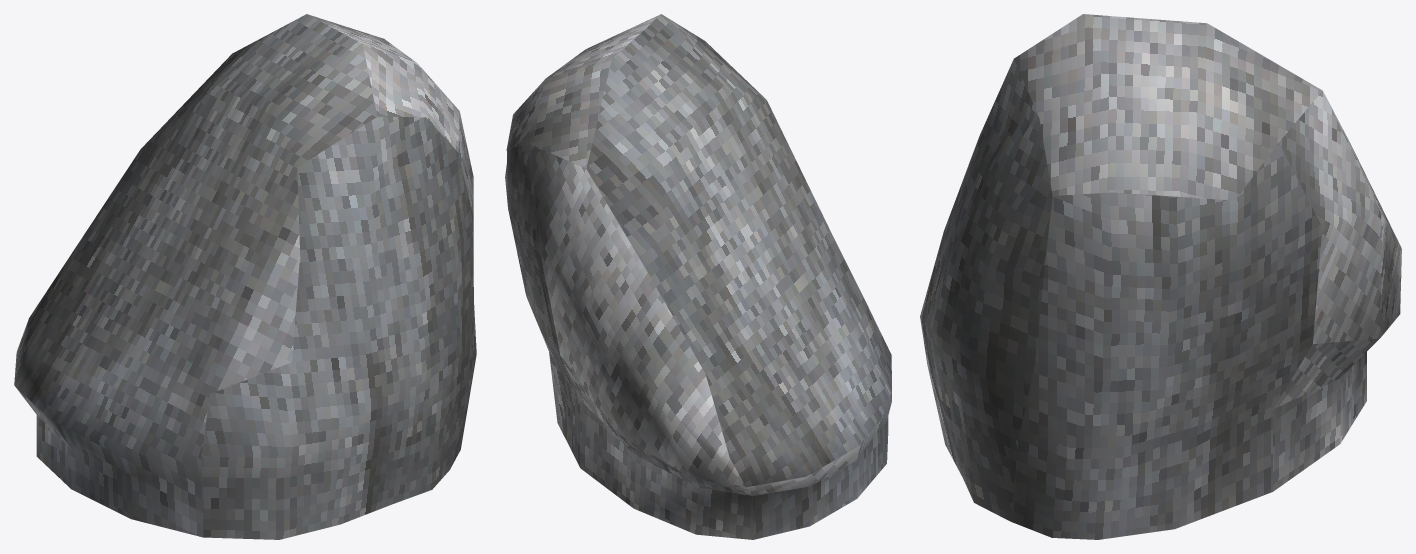
File: rock1.glb
3 renders of one model, left to right at view 1: azimuth 30°, elevation 25°; view 2: azimuth 150°, elevation 25°; view 3: azimuth 270°, elevation 25°, orthographic. The views are drawn at different scales.
Parts seen in each view (by area): view 1: Cube; view 2: Cube; view 3: Cube.
Part boxes in pixels (left/top/right/bottom): Cube: left=14, top=14, right=476, bottom=539; Cube: left=505, top=14, right=891, bottom=539; Cube: left=920, top=14, right=1401, bottom=539.
Bounding box in the file's own units: 10.34 × 10.71 × 9.82.
Materials: 1 (1 with a texture image).
